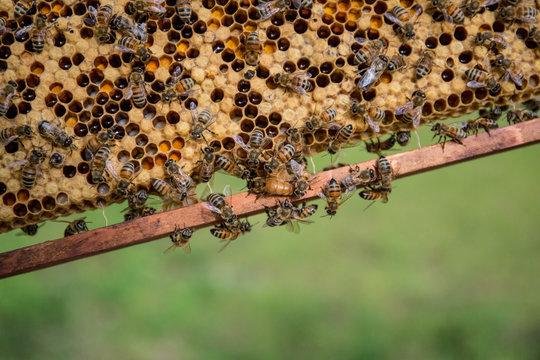Queen-Bee: (247, 177, 293, 195)
worker-bee: (16, 13, 55, 52), (265, 199, 310, 231), (8, 149, 44, 188), (384, 5, 422, 41), (235, 129, 269, 168), (344, 99, 384, 131), (210, 220, 251, 250), (38, 120, 76, 151), (162, 69, 195, 103), (395, 90, 425, 127), (164, 159, 193, 197), (203, 193, 237, 224), (357, 55, 387, 90), (109, 14, 147, 41), (114, 35, 151, 62), (213, 153, 250, 179), (431, 123, 466, 150), (190, 104, 214, 143), (493, 54, 523, 85), (373, 155, 393, 201), (264, 143, 294, 173), (341, 166, 375, 192), (353, 38, 387, 64), (83, 129, 114, 157), (152, 179, 186, 204), (465, 67, 500, 91), (319, 178, 341, 216), (127, 0, 165, 22), (125, 66, 145, 107), (497, 4, 537, 24), (273, 73, 311, 94), (165, 225, 193, 253), (430, 0, 464, 23), (112, 161, 134, 196), (303, 108, 336, 131), (0, 124, 33, 147), (256, 0, 295, 19), (91, 145, 110, 183), (328, 124, 352, 154), (290, 160, 310, 196), (458, 117, 498, 134), (196, 146, 214, 182), (474, 31, 507, 50), (285, 127, 303, 161), (244, 32, 262, 66), (55, 217, 87, 236), (96, 5, 112, 41), (0, 80, 16, 116), (415, 50, 434, 80), (358, 188, 388, 202), (128, 190, 147, 209), (296, 204, 317, 218)
